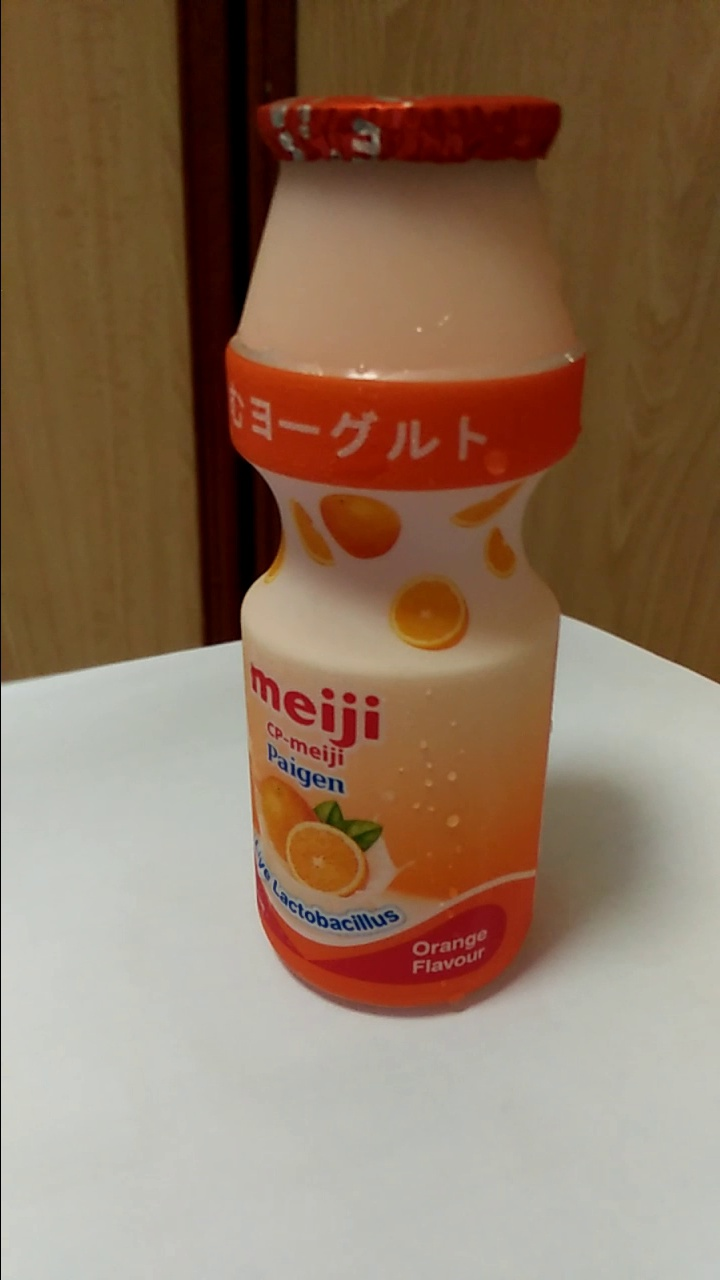milk: (237, 108, 554, 1015)
